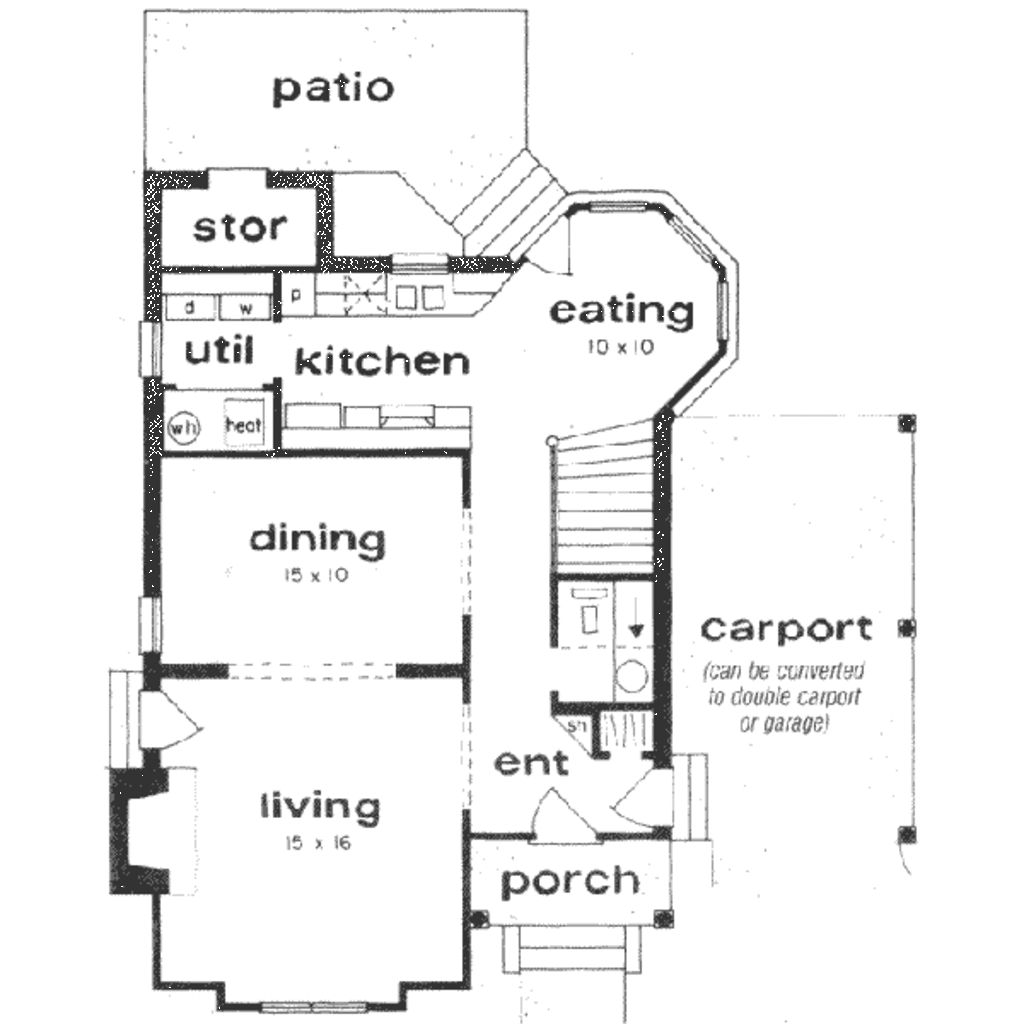door: (133, 681, 205, 758), (524, 782, 602, 851), (618, 763, 678, 830), (529, 212, 581, 285)
large_sink: (552, 579, 614, 657)
small_sink: (598, 651, 659, 711)
stairs: (538, 419, 691, 584), (446, 144, 573, 263)
twin_sink: (394, 268, 456, 311)
window: (591, 190, 757, 347), (252, 995, 369, 1024), (135, 598, 176, 658), (138, 320, 179, 379)
